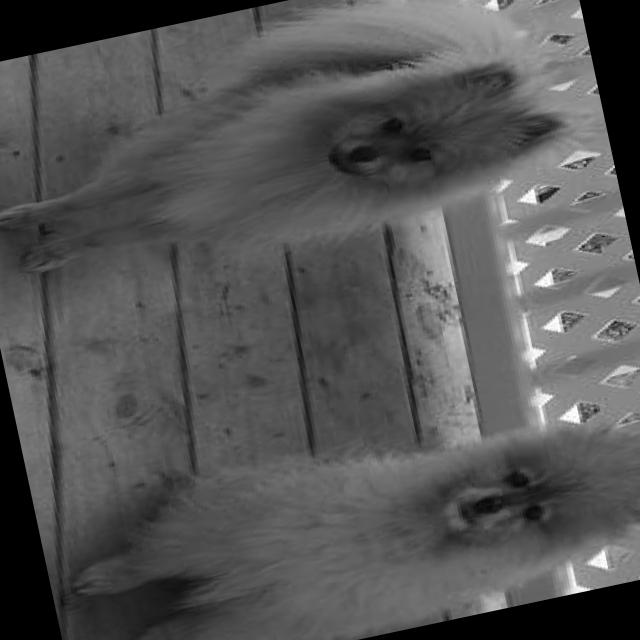sitting: (51, 377, 640, 640)
